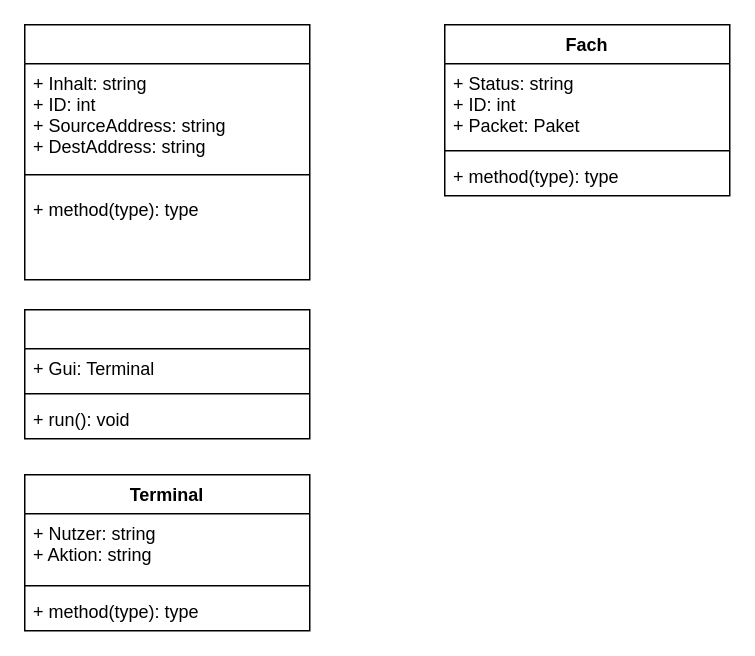
This 755x656 diagram has some shape labels left out. Here are the shapes that lost their labels. From the top down, the box of each, then its label:
(23, 23, 310, 280): Paket
(23, 308, 310, 439): Controller
